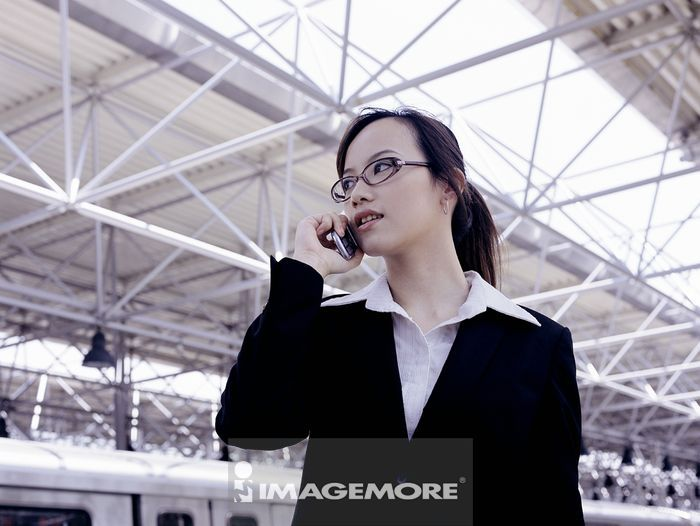talk: (292, 136, 410, 275)
